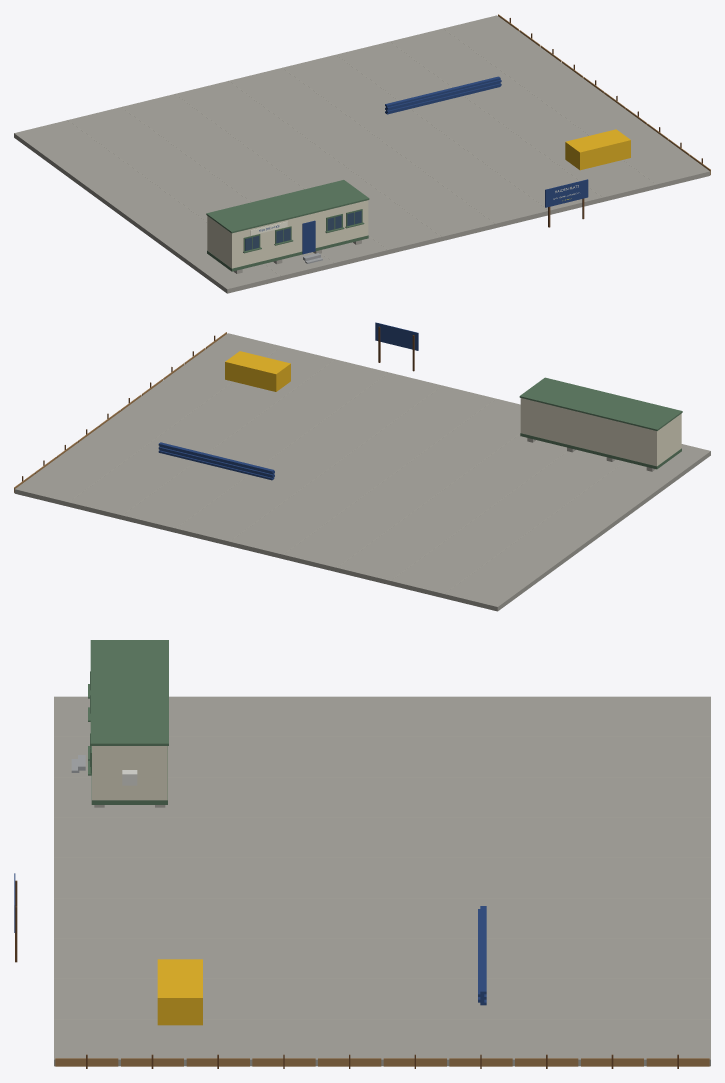
Rendered from dc.slab-portacabin.glb.
3 renders of one model, top to bottom at view 1: azimuth 30°, elevation 25°; view 2: azimuth 150°, elevation 25°; view 3: azimuth 270°, elevation 25°, orthographic. The views are drawn at different scales.
Visible parts, largest first — view 1: slab, cabin, cabin-roof, skip, sign, cabin-skirt, steel4; view 2: slab, cabin, cabin-roof, skip, sign, cabin-skirt, steel4; view 3: slab, cabin-roof, cabin, skip.
Part boxes in pixels (x1,y1,x2,y2): slab: (14,15,710,293); cabin: (207,200,368,268); cabin-roof: (206,180,369,233); skip: (565,129,630,170); sign: (545,179,588,207); cabin-skirt: (207,235,368,271); steel4: (385,76,500,107); slab: (14,333,710,611); cabin: (520,398,681,466); cabin-roof: (519,377,682,430); skip: (225,351,290,391); sign: (375,322,418,350); cabin-skirt: (520,433,681,469); steel4: (158,442,274,472); slab: (54,696,710,1066); cabin-roof: (90,640,168,745); cabin: (92,746,167,800); skip: (157,959,202,1025).
Size of the model in its own units: 34.23 by 3.3 by 27.58.
